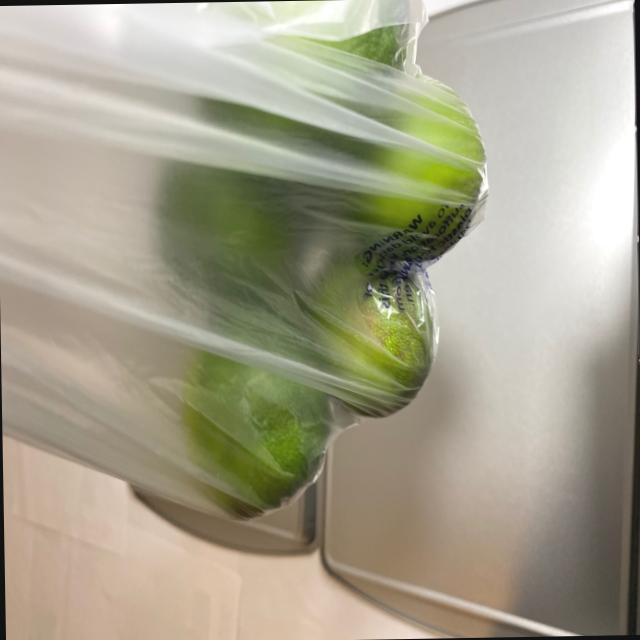lemon: (160, 0, 487, 522)
